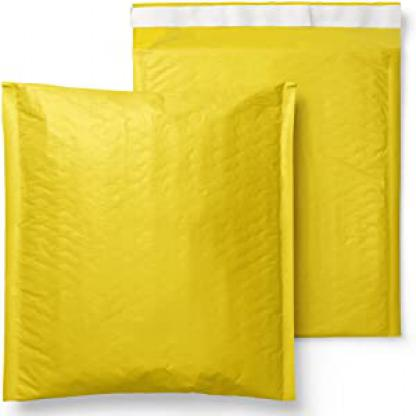package: (3, 83, 294, 399), (132, 1, 403, 335)
